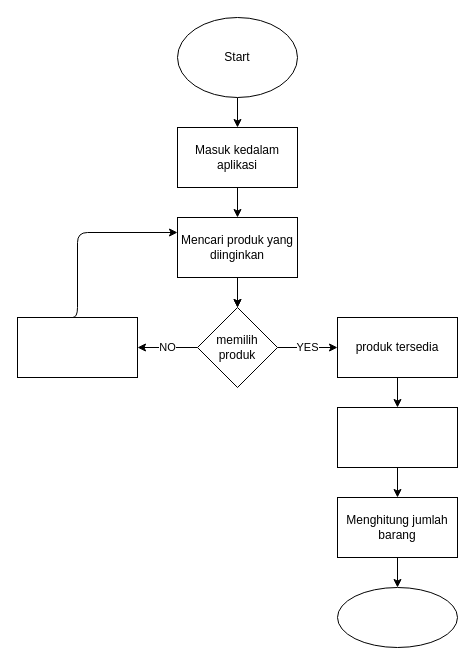
This 475x665 diagram has some shape labels left out. Here are the shapes that lost their labels. From the top down, the box of each, then its label:
(16, 316, 138, 378): produk tidak tersedia
(336, 406, 458, 468): memasukan produk kedalam keranjang
(336, 586, 458, 648): END
